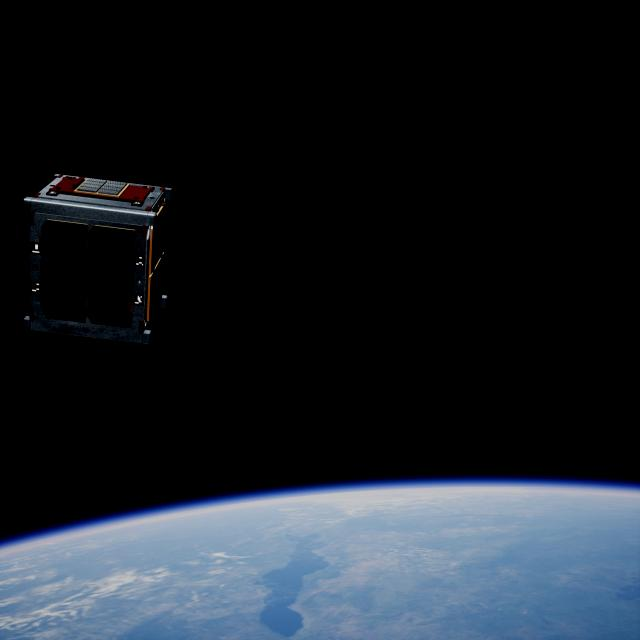satellite: (17, 175, 186, 350)
